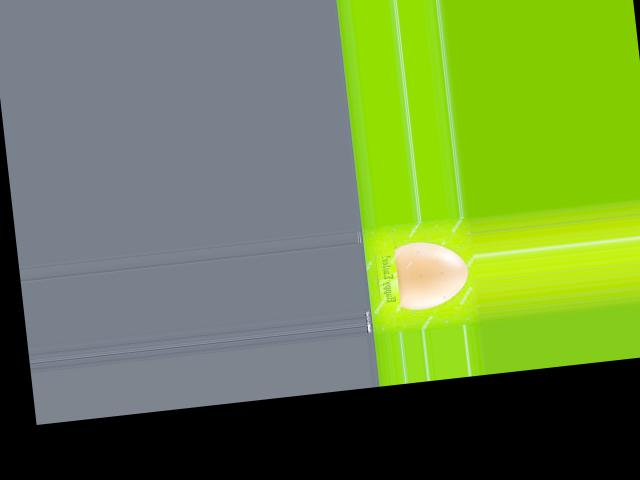egg: (394, 237, 471, 310)
